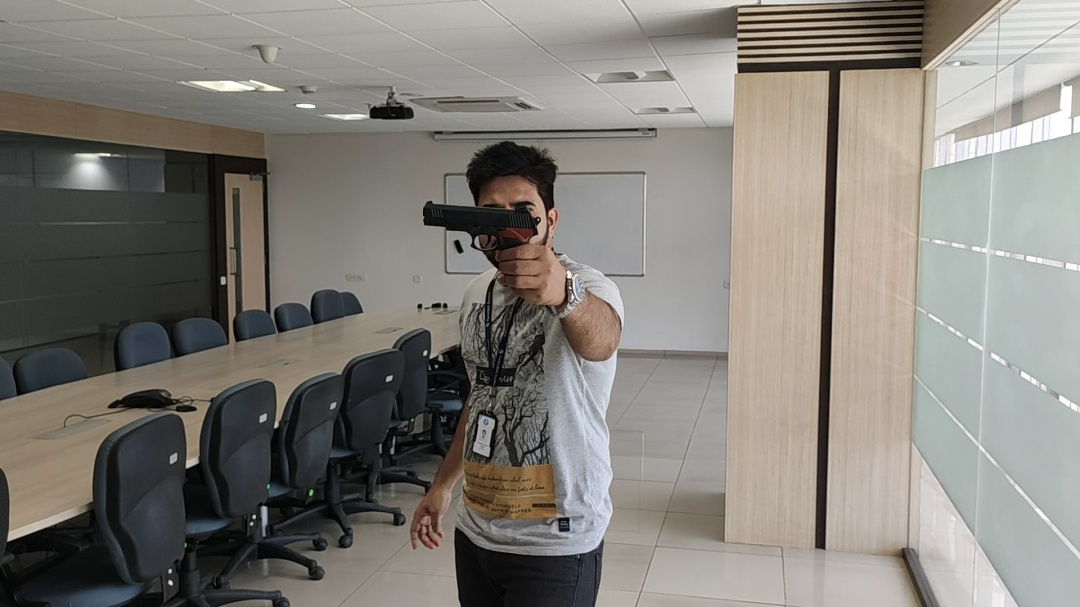gun: (420, 198, 545, 252)
